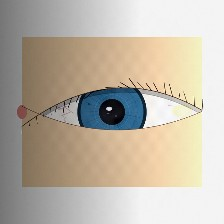pinguecula_lesion: (162, 95, 202, 127)
